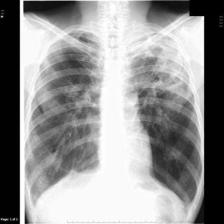tuberculosis: (21, 24, 204, 212)
